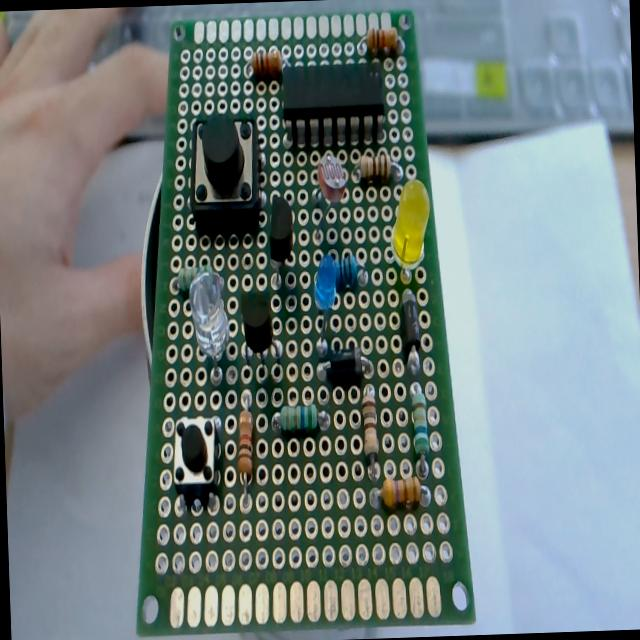IC: (280, 61, 384, 146)
cds: (316, 152, 347, 204)
diode: (318, 349, 366, 389), (399, 286, 422, 366)
led: (387, 179, 433, 286), (188, 268, 232, 363), (311, 254, 340, 352)
resistor: (234, 399, 256, 502), (360, 388, 380, 481), (271, 404, 328, 436), (410, 389, 430, 478), (356, 153, 404, 188), (358, 22, 404, 58), (248, 46, 284, 84), (380, 475, 421, 508), (177, 262, 214, 296)
switch: (187, 112, 263, 234), (172, 414, 222, 511)
transistor: (236, 289, 282, 379), (266, 198, 295, 288)
